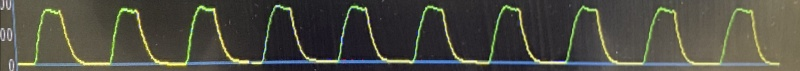normal_volume: (12, 0, 780, 71)
